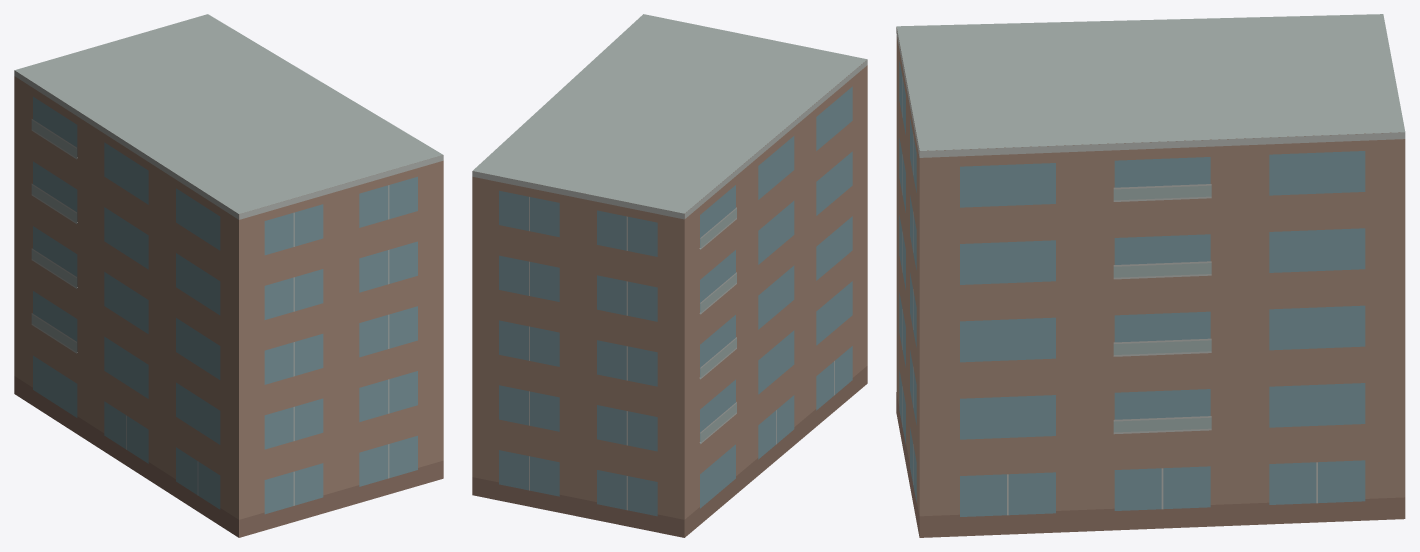
Rendered from survey-upis-32948648.glb.
The picture shows the model from 3 angles, left to right: view 1: azimuth 30°, elevation 25°; view 2: azimuth 150°, elevation 25°; view 3: azimuth 270°, elevation 25°; orthographic projection. The views are drawn at different scales.
Parts seen in each view (by area): view 1: survey-upis-32948648.tmp; view 2: survey-upis-32948648.tmp; view 3: survey-upis-32948648.tmp.
Part boxes in pixels (box(x1,y1,x2,y2)): survey-upis-32948648.tmp: box(14, 14, 443, 537); survey-upis-32948648.tmp: box(472, 14, 867, 537); survey-upis-32948648.tmp: box(896, 14, 1405, 537).
Size of the model in its own units: 10.42 by 13.7 by 16.34.
